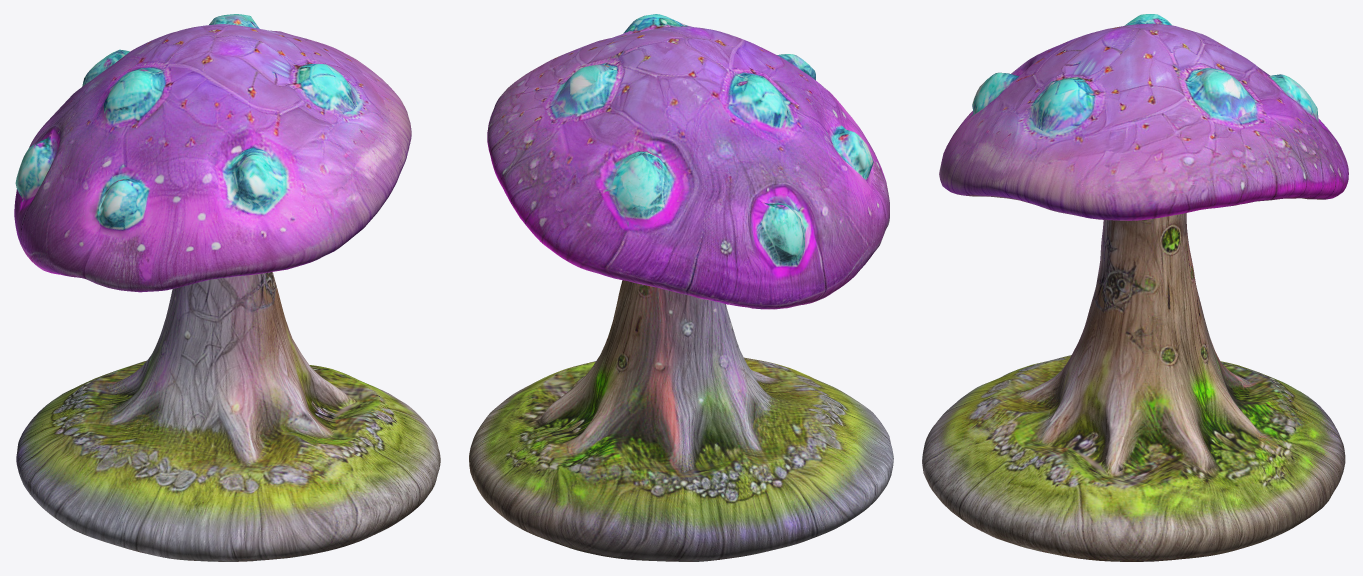
File: giant_mushroom_magic__0907205756_refine.glb
The picture shows the model from 3 angles, left to right: view 1: azimuth 30°, elevation 25°; view 2: azimuth 150°, elevation 25°; view 3: azimuth 270°, elevation 25°; orthographic projection.
Size of the model in its own units: 0.9839 by 1.2 by 0.9865.
1 material, 1 textured.
